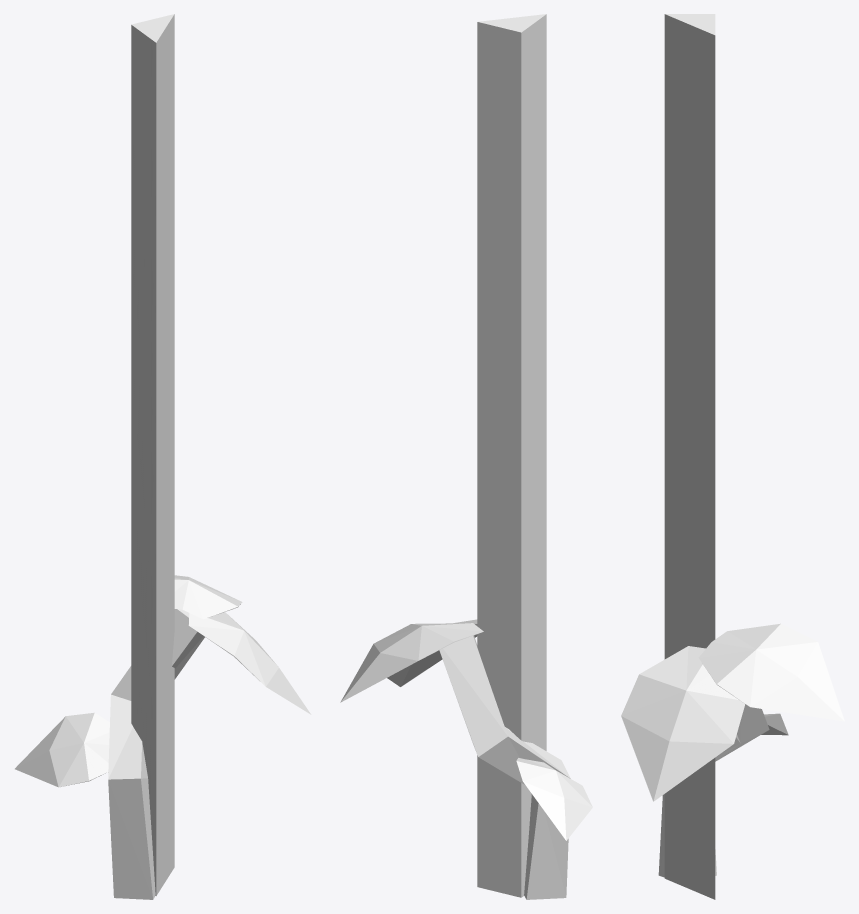
The model's file is Crop_Bean_STAGE_1_01.glb.
The picture shows the model from 3 angles, left to right: view 1: azimuth 30°, elevation 25°; view 2: azimuth 150°, elevation 25°; view 3: azimuth 270°, elevation 25°; orthographic projection.
Parts seen in each view (by area): view 1: Crop_Bean_STAGE_1_01; view 2: Crop_Bean_STAGE_1_01; view 3: Crop_Bean_STAGE_1_01.
Part boxes in pixels (bbox=[...]): Crop_Bean_STAGE_1_01: bbox=[15, 14, 311, 899]; Crop_Bean_STAGE_1_01: bbox=[340, 14, 592, 899]; Crop_Bean_STAGE_1_01: bbox=[621, 14, 844, 899].
Bounding box in the file's own units: 0.3237 × 1.15 × 0.2688.
Materials: 1 (1 with a texture image).
